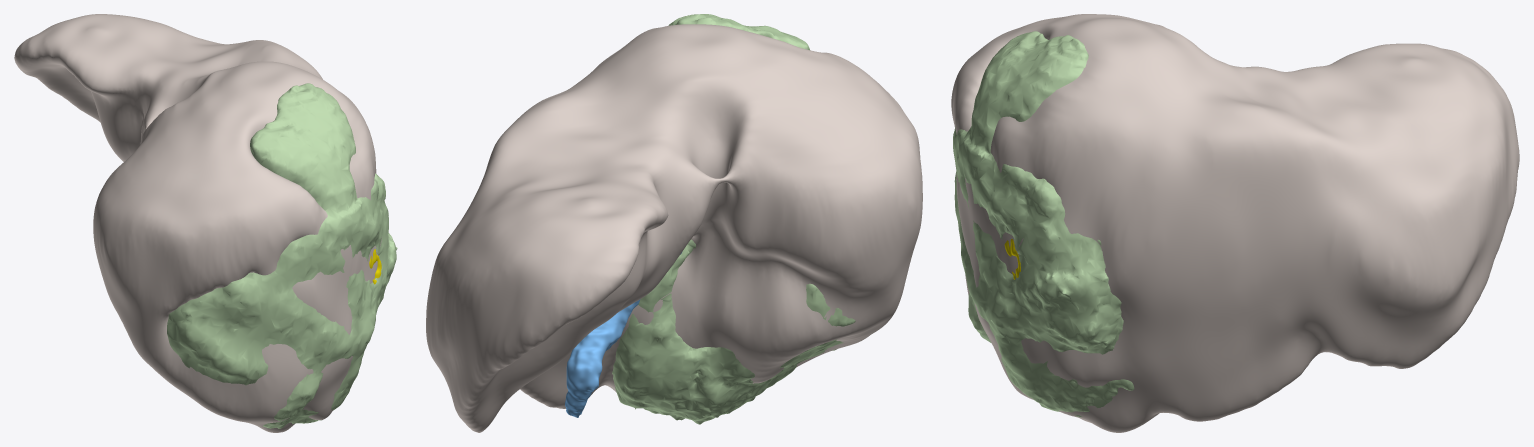
The picture shows the model from 3 angles, left to right: view 1: azimuth 30°, elevation 25°; view 2: azimuth 150°, elevation 25°; view 3: azimuth 270°, elevation 25°; orthographic projection. The views are drawn at different scales.
Visible parts, largest first — view 1: Renderer Node; view 2: Renderer Node; view 3: Renderer Node.
Boxes of the visible parts, <box> form: Renderer Node: <box>14,14,397,432</box>; Renderer Node: <box>426,14,922,432</box>; Renderer Node: <box>951,14,1519,432</box>.
Size of the model in its own units: 163 by 188 by 253.
